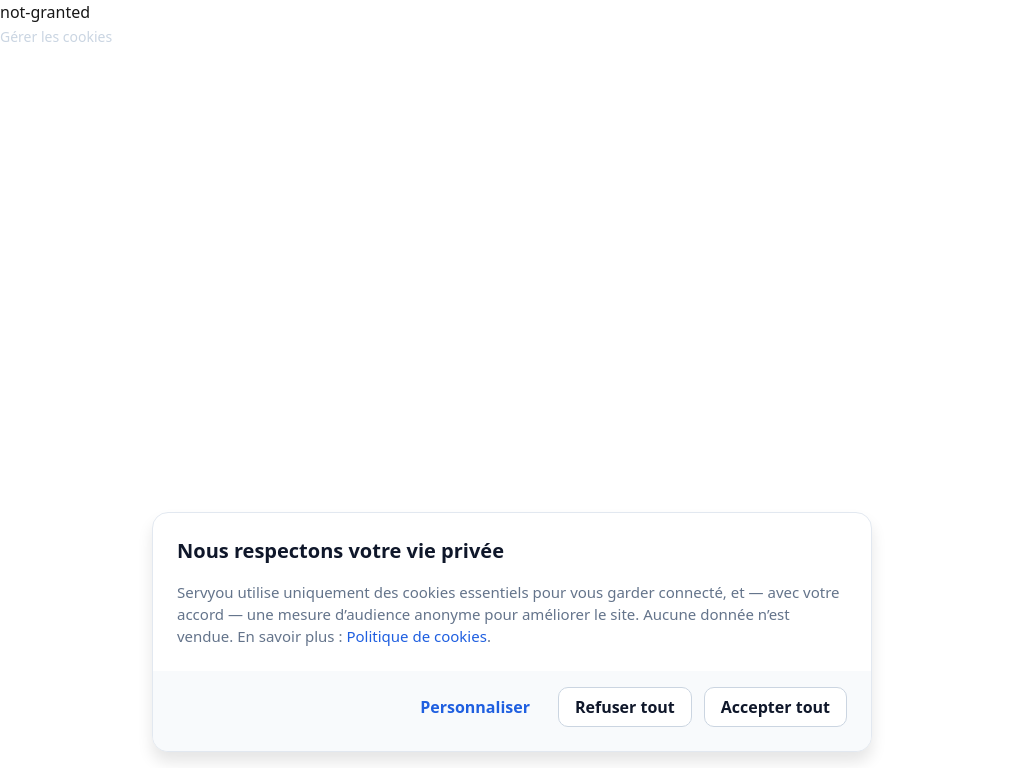
the settings modal › « Personnaliser » opens it: audience OFF by default, the two necessary categories say « Toujours actif » and have no switch
Click the button "Personnaliser": (475, 707) x1=404 y1=687 x2=546 y2=727
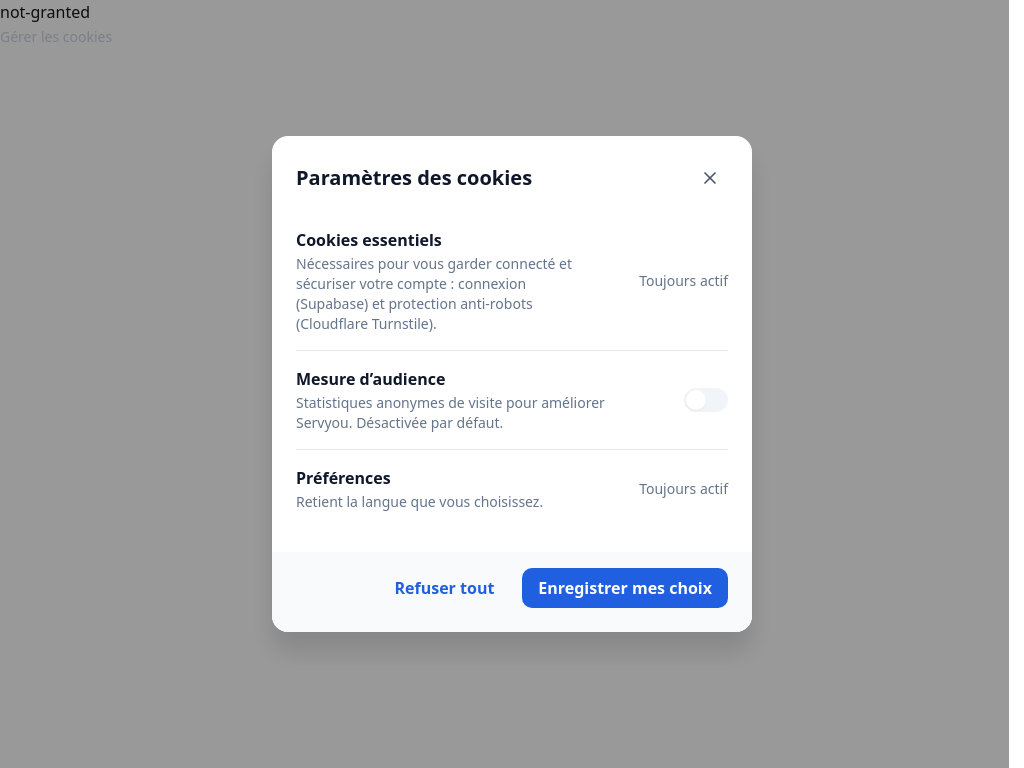
Check: the heading "Paramètres des cookies" is shown, box x1=296 y1=164 x2=532 y2=192
Check: the text "Toujours actif" is shown 2 times, box x1=639 y1=271 x2=728 y2=291; x1=639 y1=479 x2=728 y2=499
Check: the text "Turnstile" is shown, box x1=296 y1=254 x2=572 y2=333
